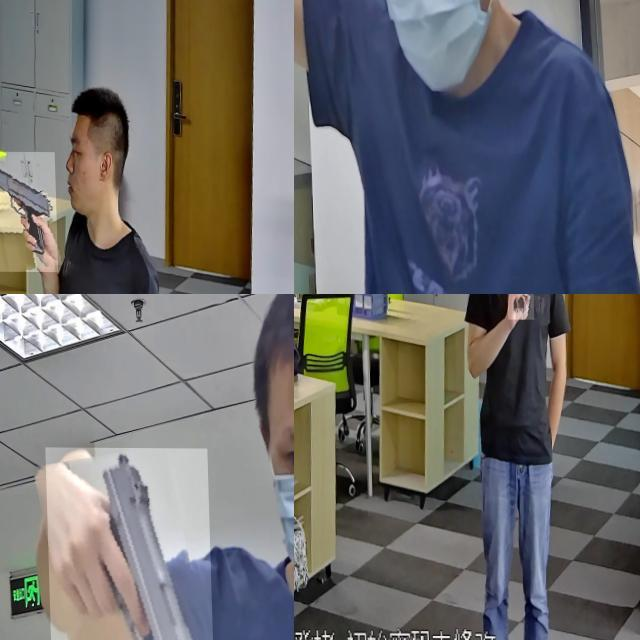gun-knife-thesis - v11 Yolov5 augmented: (43, 447, 213, 640), (294, 0, 375, 263), (0, 151, 55, 271), (504, 294, 532, 340)
